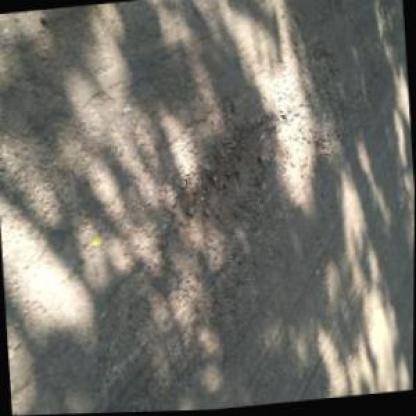pothole: (165, 114, 288, 258)
